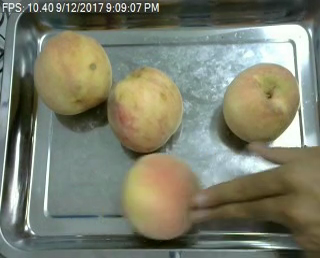Peach: (32, 29, 112, 116), (107, 65, 183, 151), (123, 153, 197, 240), (222, 63, 299, 143)
